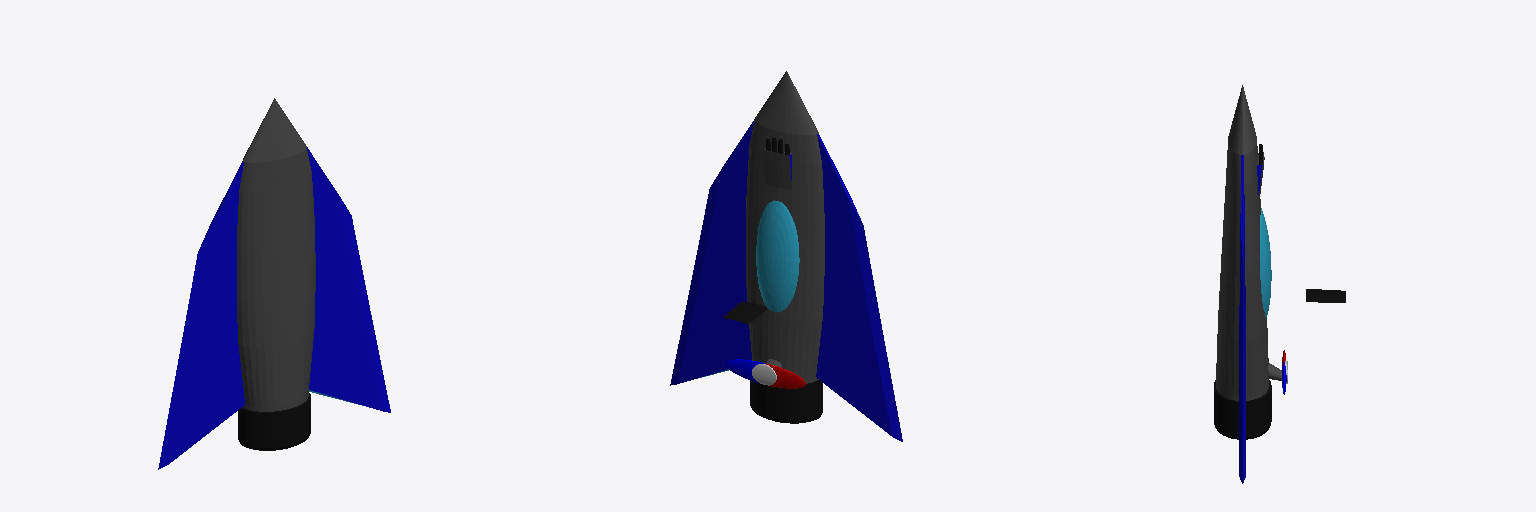
Rendered from Police_Ship_v1.obj.
The picture shows the model from 3 angles: view 1: azimuth 30°, elevation 25°; view 2: azimuth 150°, elevation 25°; view 3: azimuth 270°, elevation 25°; orthographic projection.
Parts seen in each view (by area): view 1: Corpo_Cylinder, Turbina_Cylinder.001; view 2: Corpo_Cylinder, Capsula_Sphere.005, Turbina_Cylinder.001, Canhão_secreto_Cylinder.003, Sirenes_Sphere, Capa_Cylinder.005; view 3: Corpo_Cylinder, Turbina_Cylinder.001, Capsula_Sphere.005.
Boxes of the visible parts, box(x1,y1,x2,y2) form: Corpo_Cylinder: box(158, 98, 390, 469); Turbina_Cylinder.001: box(238, 393, 310, 450); Corpo_Cylinder: box(670, 71, 902, 441); Capsula_Sphere.005: box(756, 200, 799, 312); Turbina_Cylinder.001: box(750, 380, 822, 423); Canhão_secreto_Cylinder.003: box(763, 148, 791, 190); Sirenes_Sphere: box(726, 359, 805, 388); Capa_Cylinder.005: box(723, 302, 767, 324); Corpo_Cylinder: box(1216, 85, 1268, 483); Turbina_Cylinder.001: box(1214, 380, 1271, 439); Capsula_Sphere.005: box(1260, 208, 1271, 317).
Bounding box in the file's own units: 5.46 × 7.69 × 2.7.